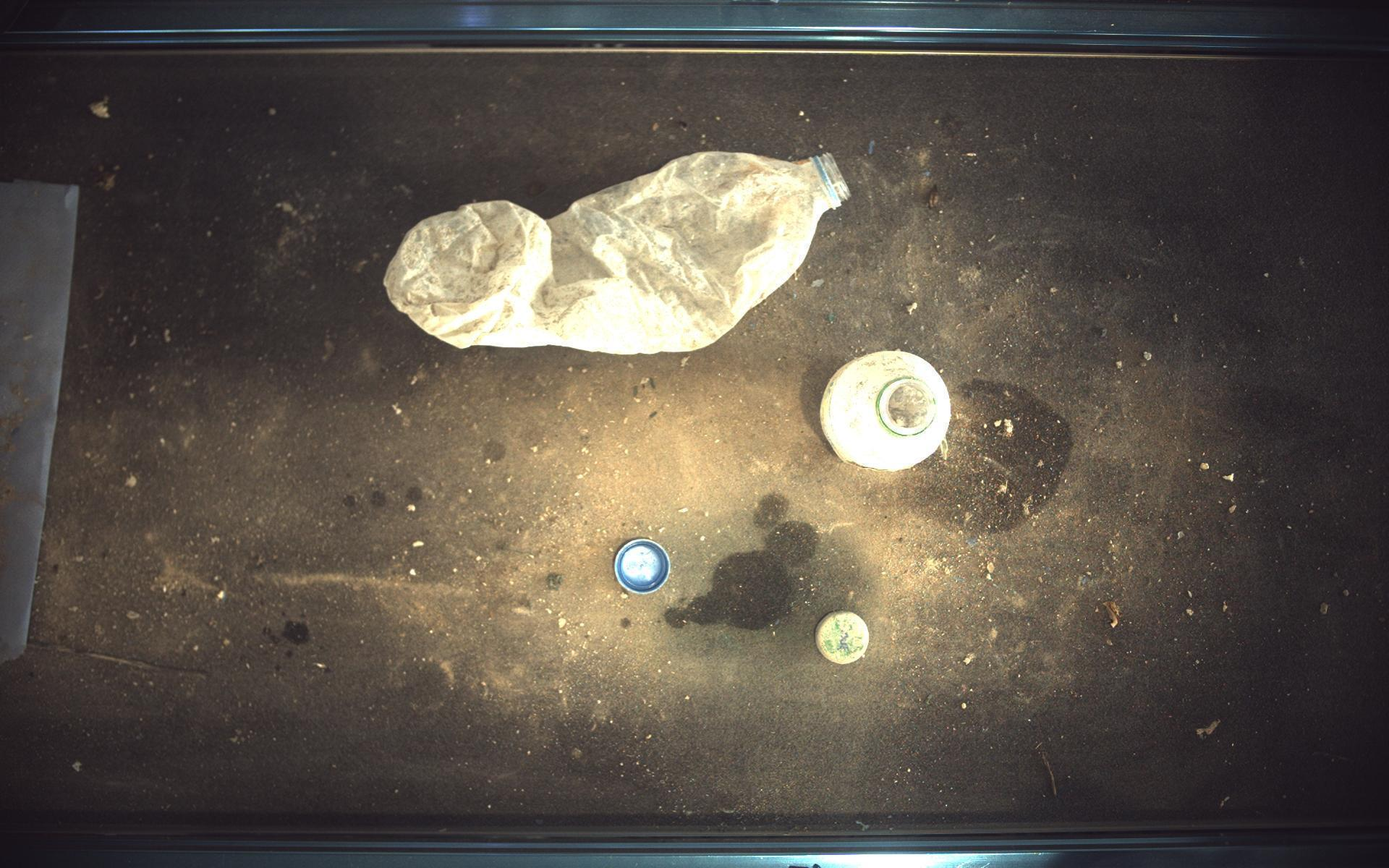general_w: (384, 152, 851, 354), (822, 351, 953, 471), (613, 539, 671, 595), (817, 613, 871, 665)
